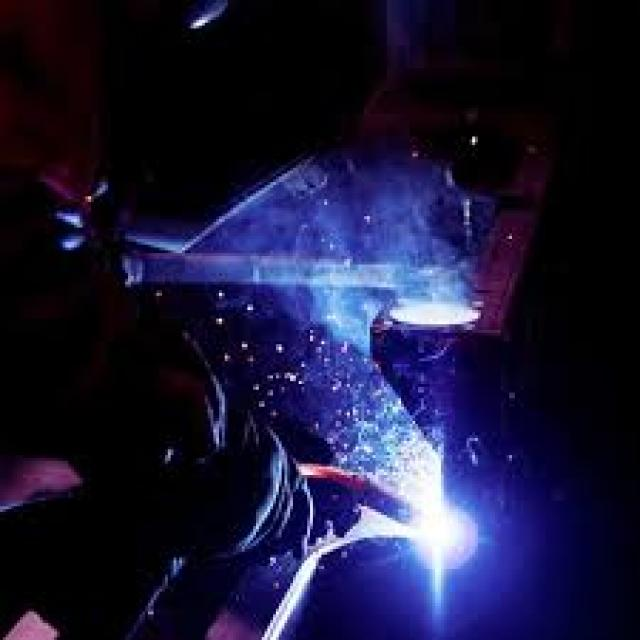welding: (420, 502, 453, 551), (403, 474, 439, 499)
